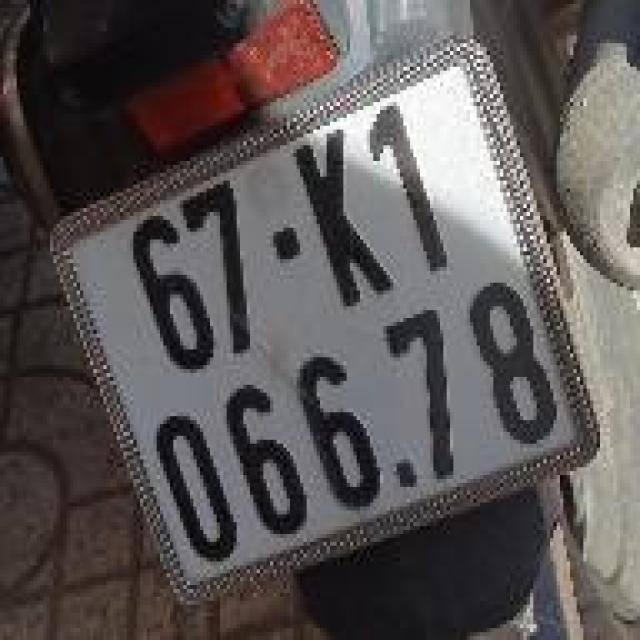0: (138, 389, 256, 582)
1: (354, 84, 481, 287)
6: (282, 332, 396, 518), (210, 369, 320, 550), (120, 203, 228, 384)
7: (166, 166, 282, 371), (372, 287, 481, 491)
8: (452, 262, 574, 459)
K: (282, 116, 408, 321)
